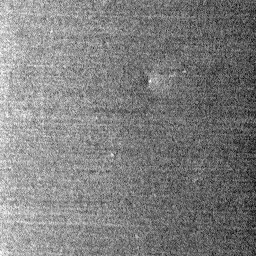dent: (143, 74, 157, 90)
